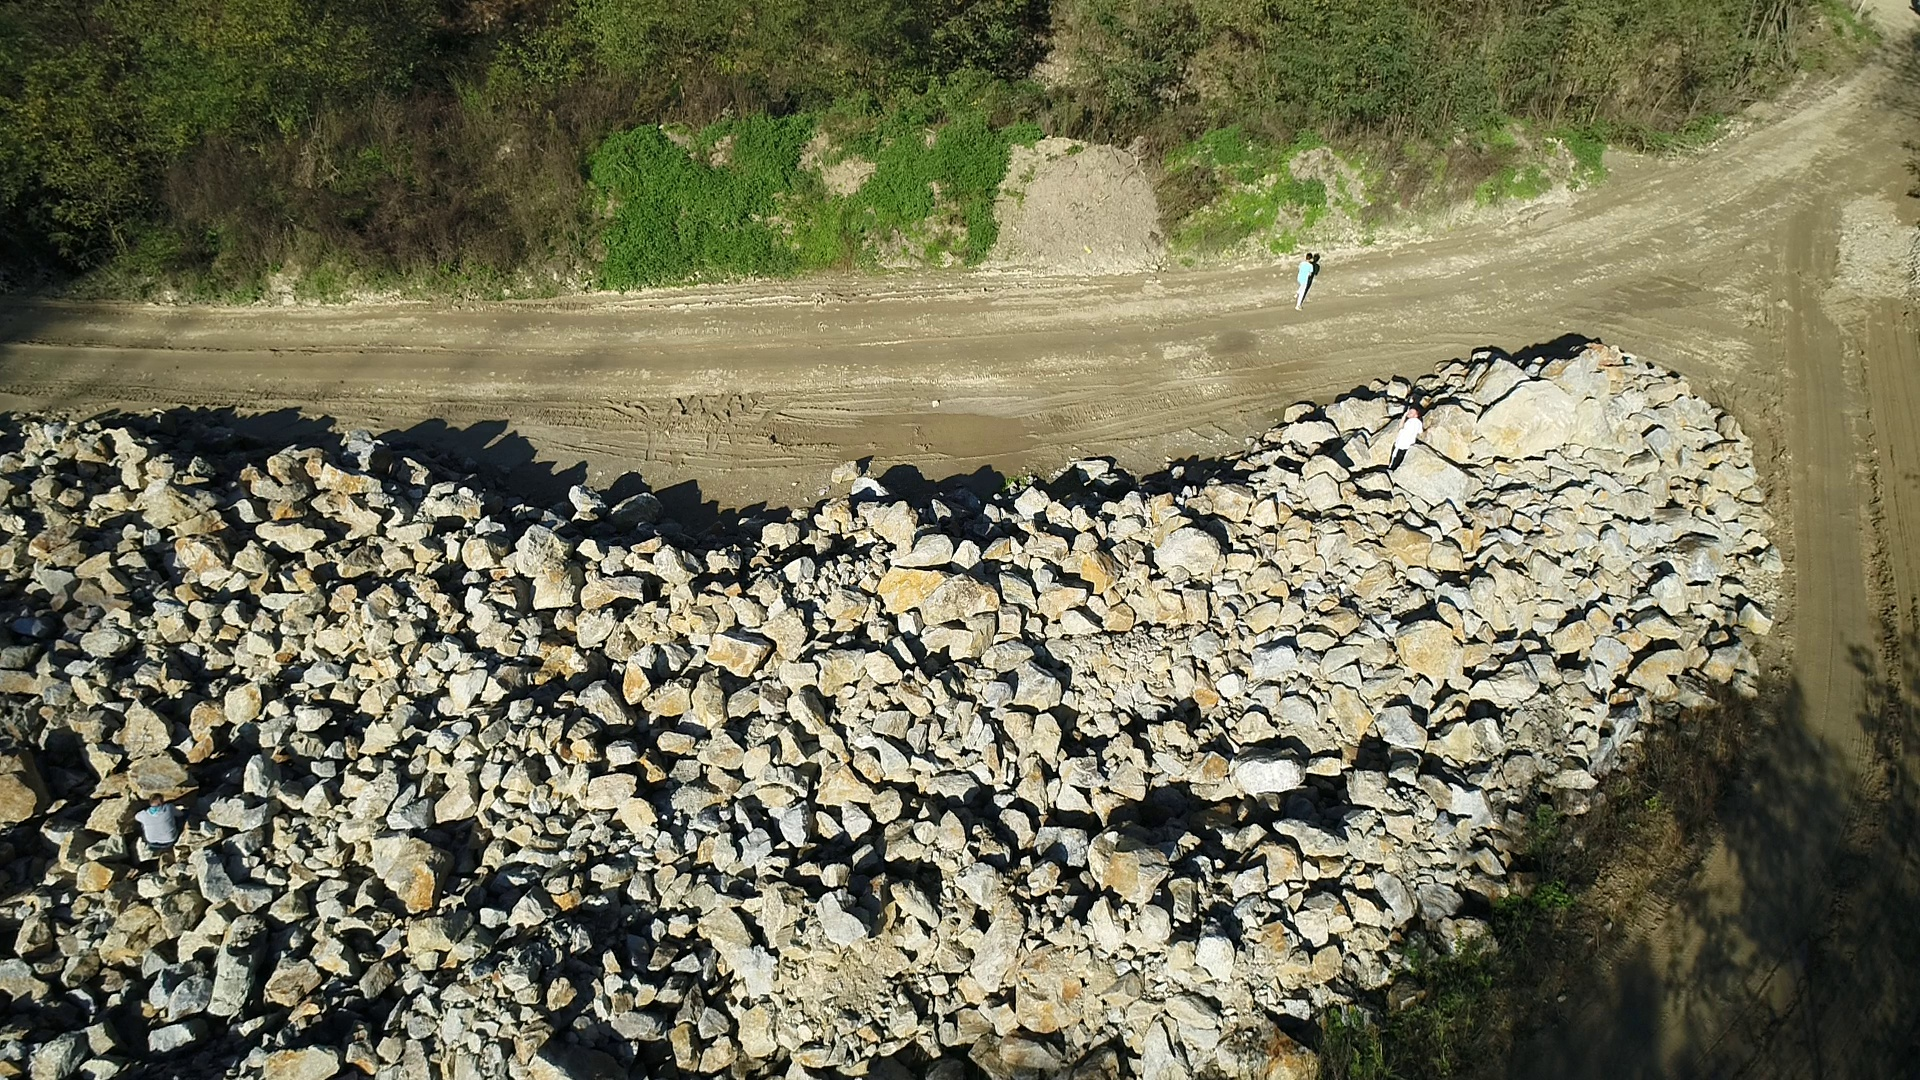person: (133, 791, 184, 853), (1387, 405, 1425, 470), (1293, 253, 1313, 312)
